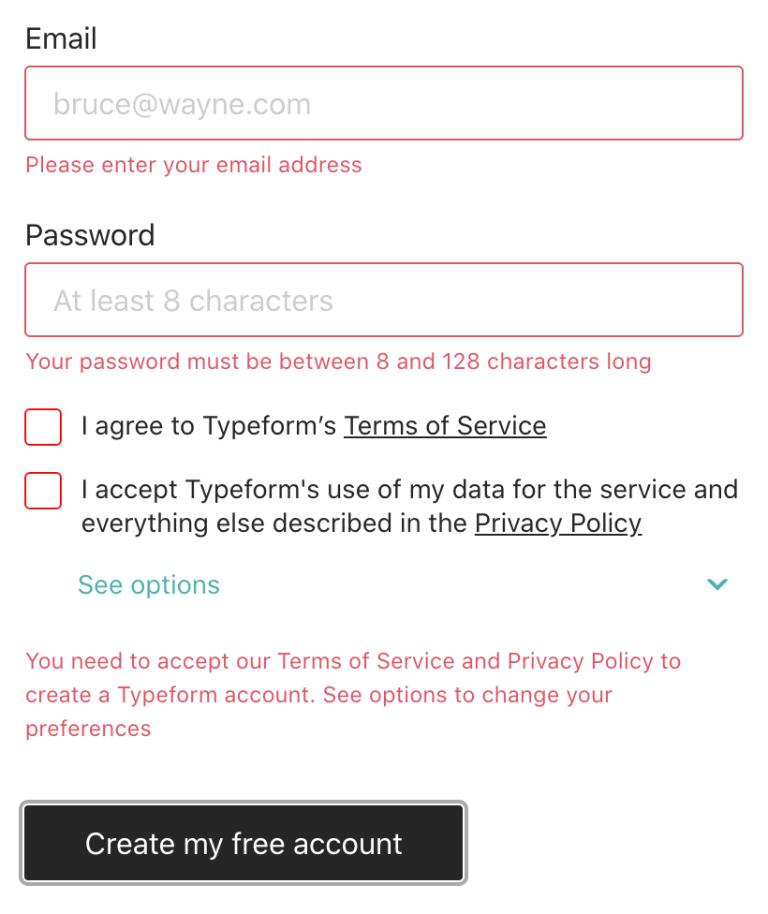error_field: (23, 260, 746, 339), (24, 63, 745, 142)
error_message: (27, 648, 686, 740), (21, 351, 650, 378), (22, 152, 362, 178)
